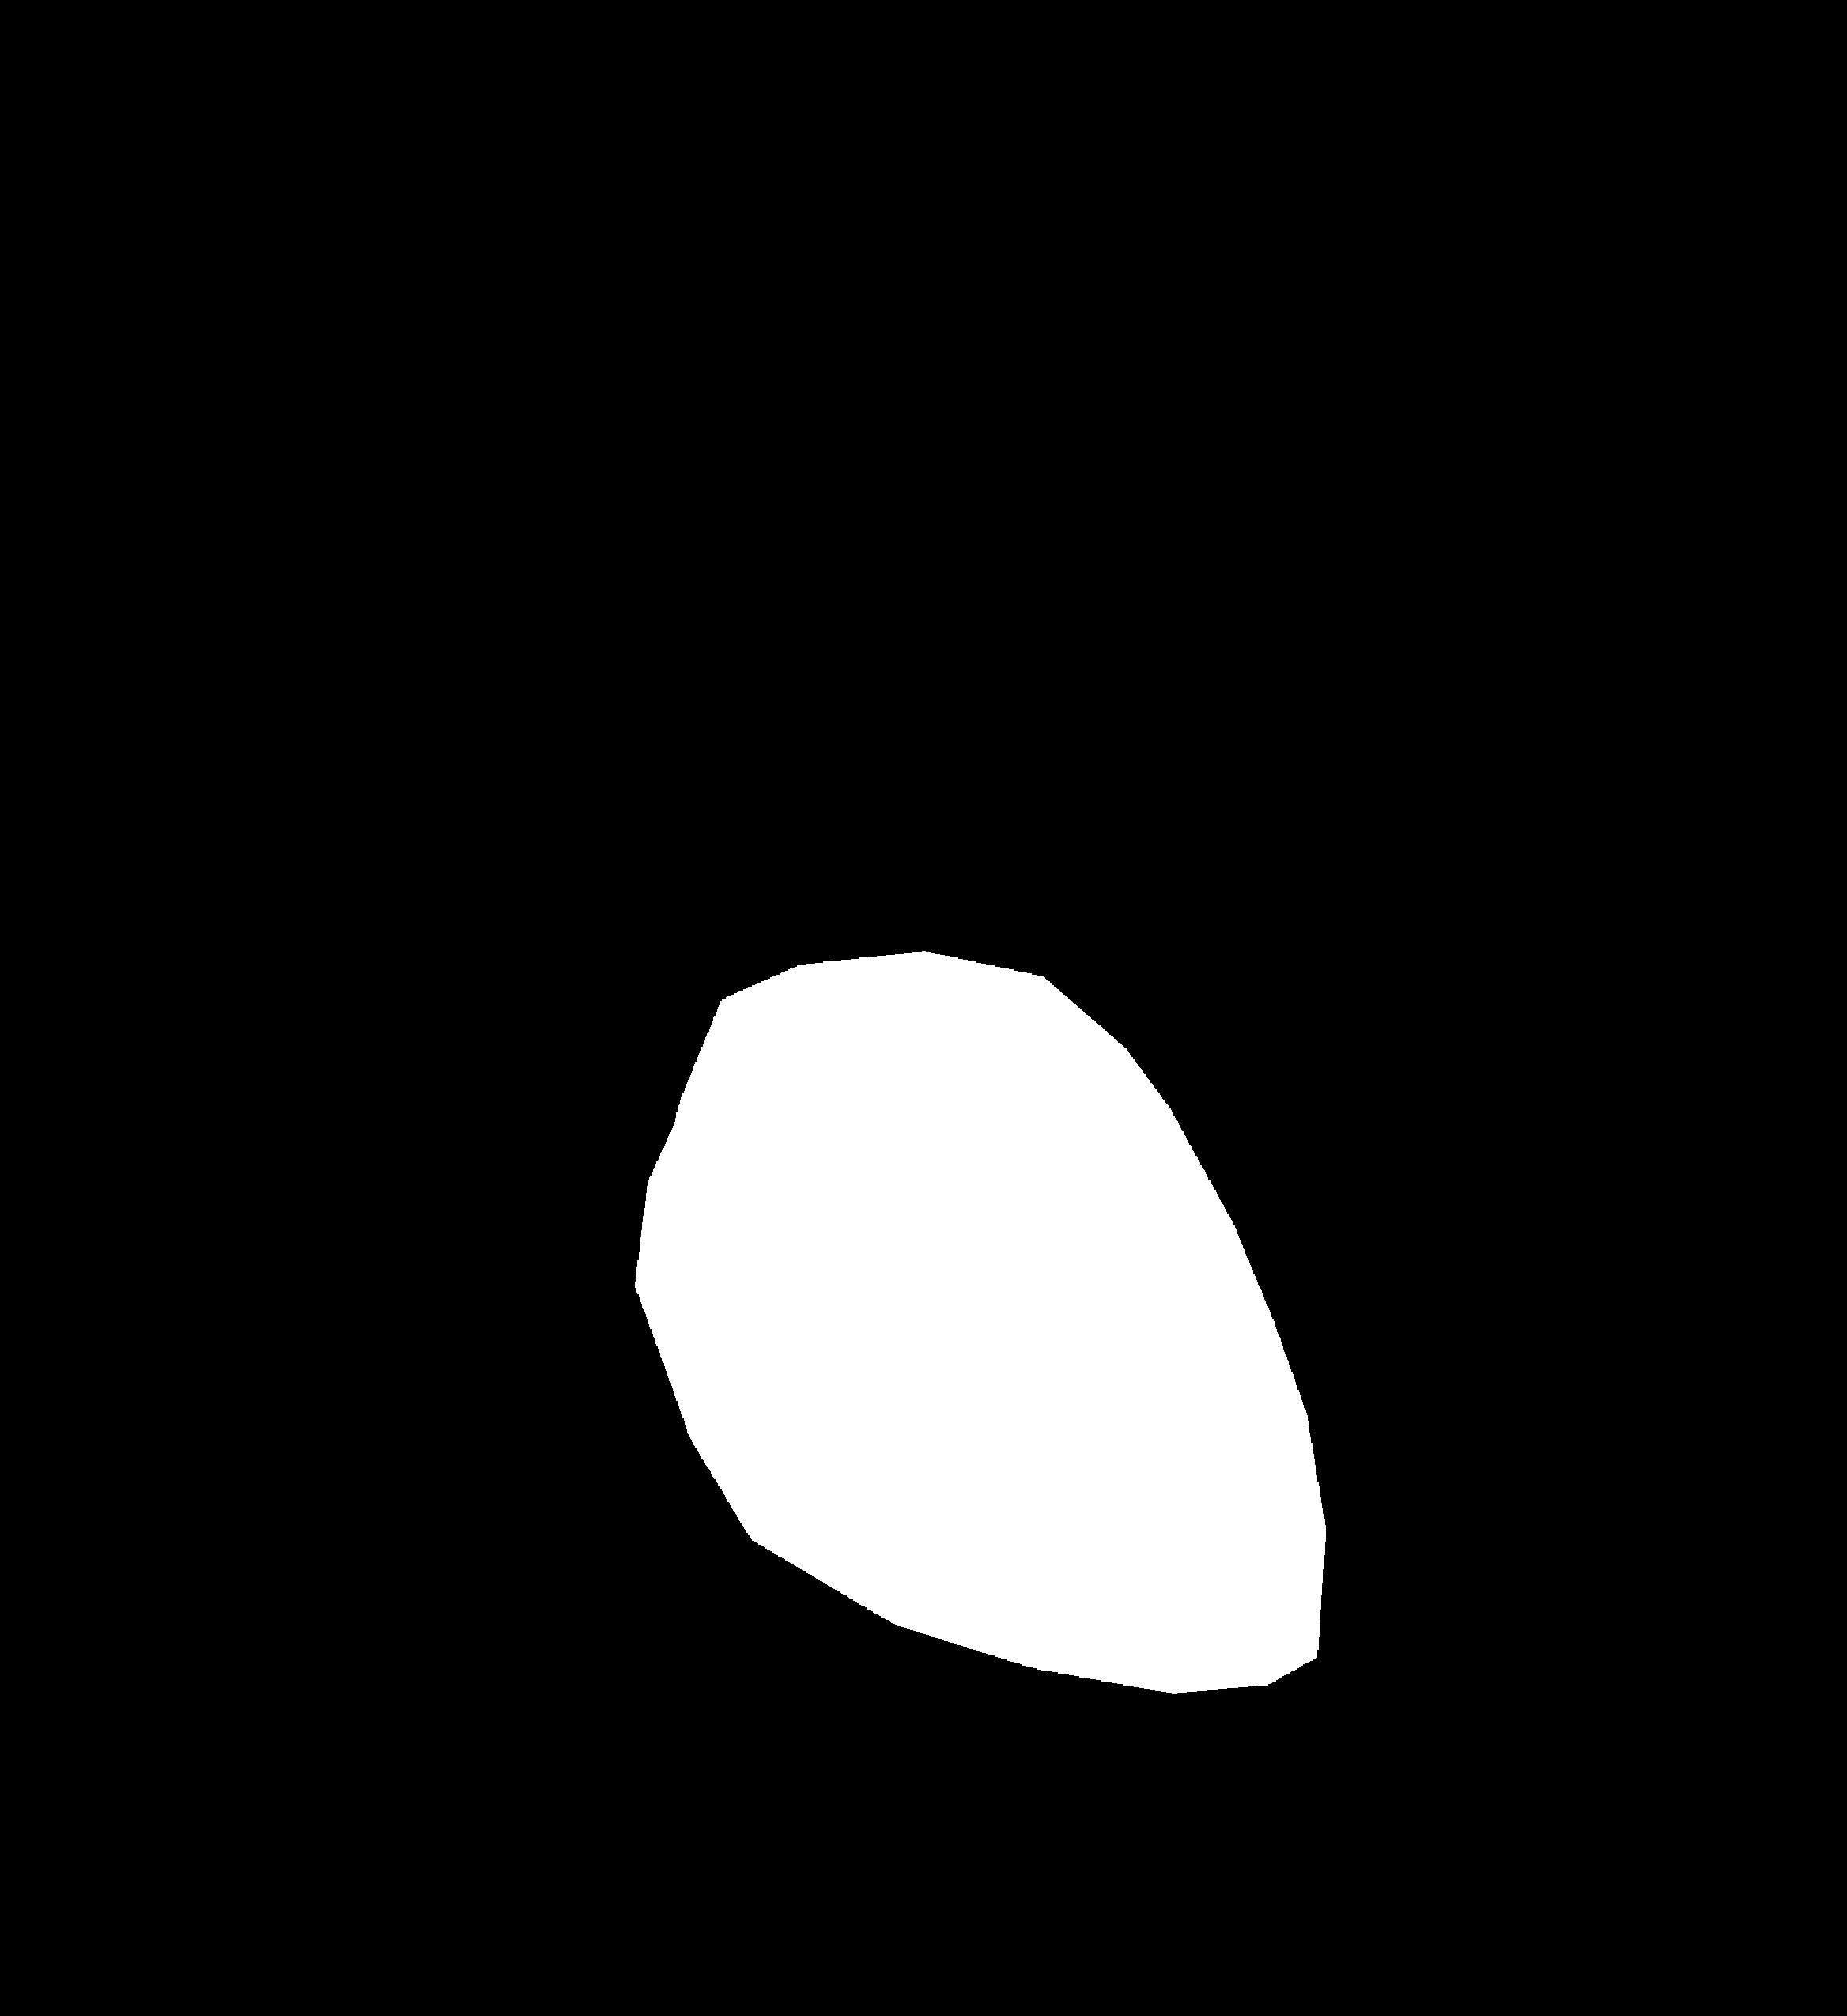heart: (634, 1059, 1327, 1686)
left_lung: (198, 339, 790, 1670)
right_lung: (1053, 232, 1659, 1912)
